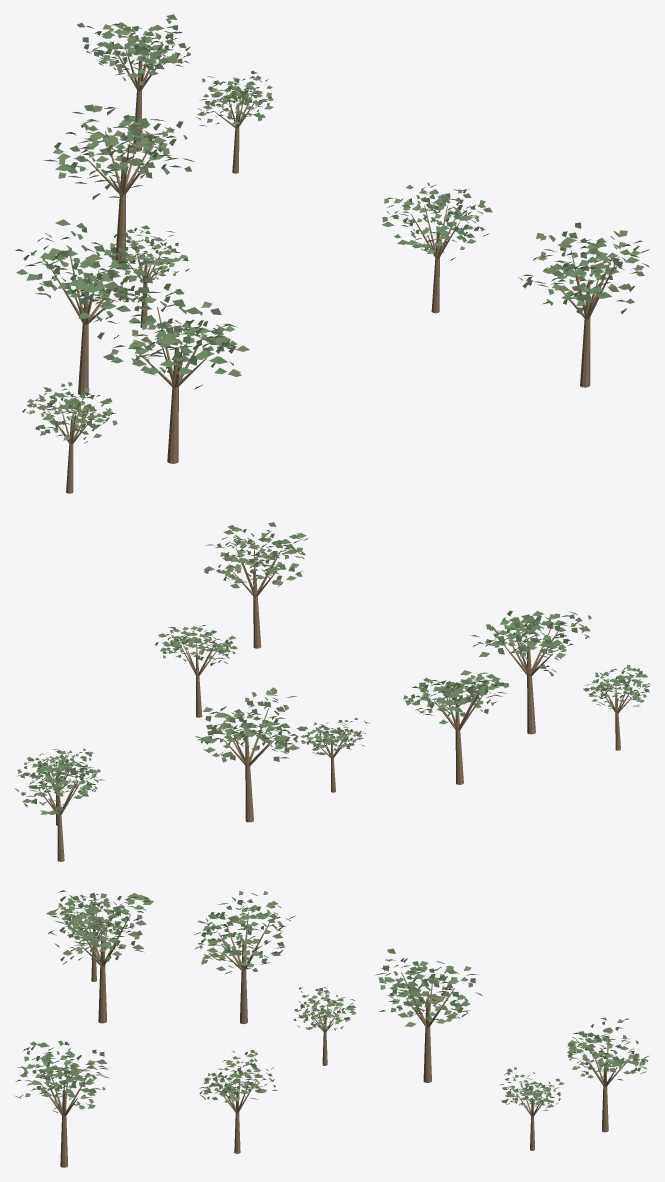
Rendered from street_0_1.glb.
3 views of the same model, one above another, from view 1: azimuth 30°, elevation 25°; view 2: azimuth 150°, elevation 25°; view 3: azimuth 270°, elevation 25° (orthographic). The views are drawn at different scales.
Parts seen in each view (by area): view 1: leaf.009, wood.076; view 2: leaf.009, wood.076; view 3: leaf.009, wood.076.
Boxes of the visible parts, bbox=[...] form: leaf.009: bbox=[15, 14, 649, 443]; wood.076: bbox=[47, 41, 615, 493]; leaf.009: bbox=[14, 522, 650, 814]; wood.076: bbox=[39, 541, 635, 861]; leaf.009: bbox=[14, 890, 649, 1113]; wood.076: bbox=[40, 912, 625, 1167].
Size of what is drawn, in the model's own units: 24.53 by 6.4 by 29.79.
